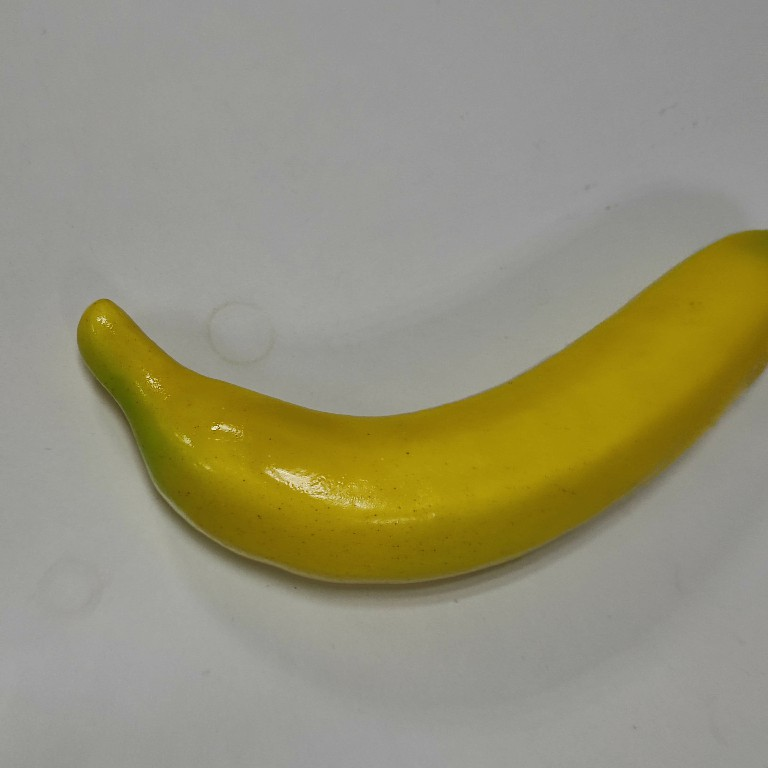fruit_banana: (71, 226, 768, 589)
